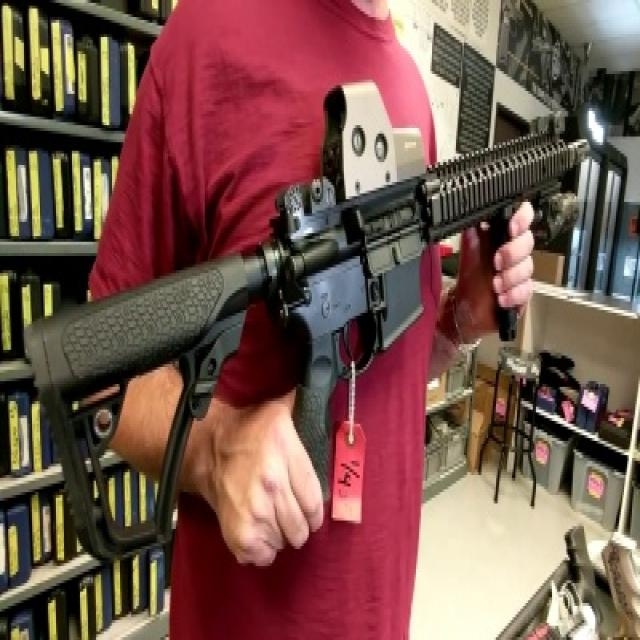rifle: (21, 102, 594, 585)
